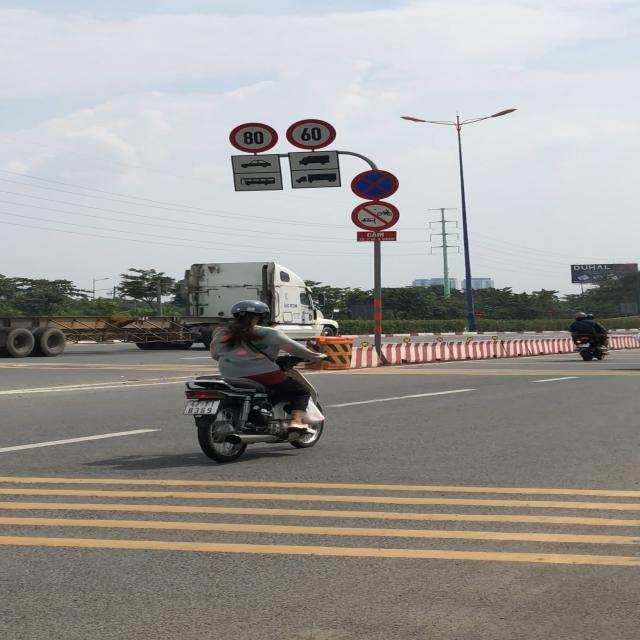Bien bao cam dung xe va do xe: (351, 169, 398, 201)
Bien bao toc do toi da cho phep: (284, 118, 340, 150), (228, 122, 281, 153)
